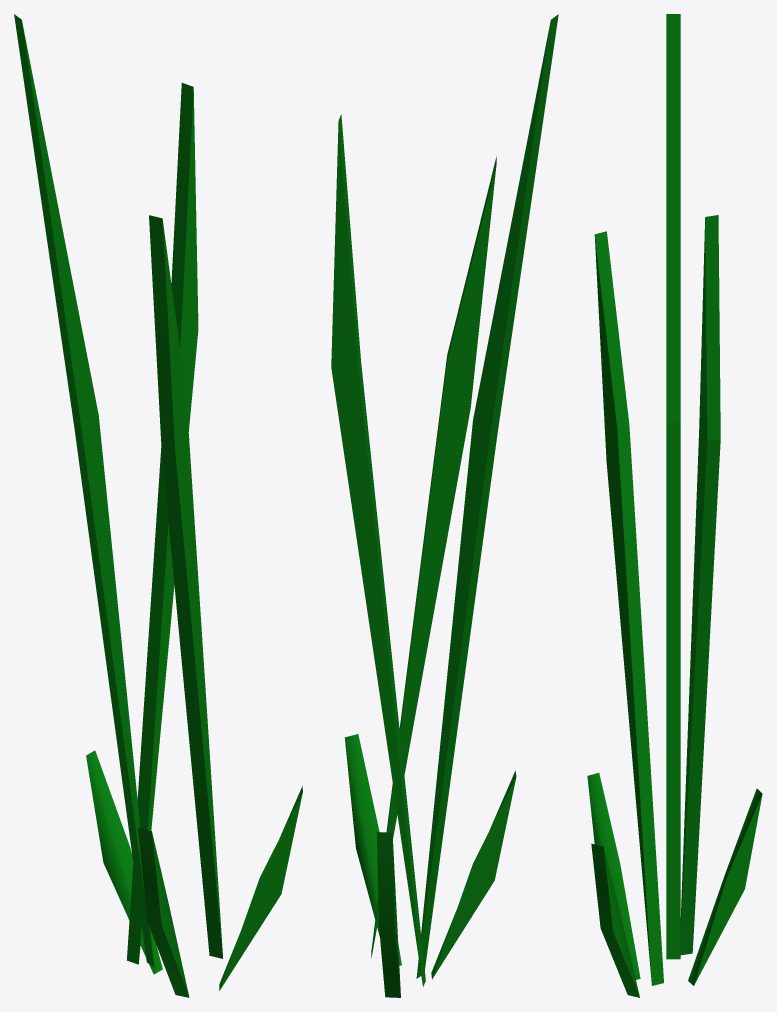
File: Plant_Green.fbx
3 renders of one model, left to right at view 1: azimuth 30°, elevation 25°; view 2: azimuth 150°, elevation 25°; view 3: azimuth 270°, elevation 25°, orthographic. The views are drawn at different scales.
Visible parts, largest first — view 1: Cube_1, Cube_2, Cube, Cube_4, Cube_3, Cube_5; view 2: Cube_2, Cube, Cube_1, Cube_5, Cube_3, Cube_4; view 3: Cube_1, Cube_2, Cube, Cube_4, Cube_5, Cube_3.
Part boxes in pixels (x1=…): Cube_1: x1=149, y1=215, x2=222, y2=958; Cube_2: x1=14, y1=14, x2=154, y2=967; Cube: x1=127, y1=83, x2=198, y2=964; Cube_4: x1=86, y1=750, x2=162, y2=974; Cube_3: x1=138, y1=828, x2=189, y2=997; Cube_5: x1=219, y1=786, x2=302, y2=990; Cube_2: x1=416, y1=14, x2=558, y2=978; Cube: x1=331, y1=114, x2=425, y2=986; Cube_1: x1=371, y1=156, x2=496, y2=958; Cube_5: x1=344, y1=734, x2=401, y2=965; Cube_3: x1=431, y1=770, x2=516, y2=979; Cube_4: x1=376, y1=832, x2=400, y2=997; Cube_1: x1=594, y1=231, x2=663, y2=985; Cube_2: x1=666, y1=14, x2=680, y2=959; Cube: x1=680, y1=215, x2=720, y2=955; Cube_4: x1=688, y1=788, x2=762, y2=985; Cube_5: x1=591, y1=843, x2=639, y2=997; Cube_3: x1=587, y1=773, x2=640, y2=979.
Bounding box in the file's own units: 71.86 × 279 × 49.
